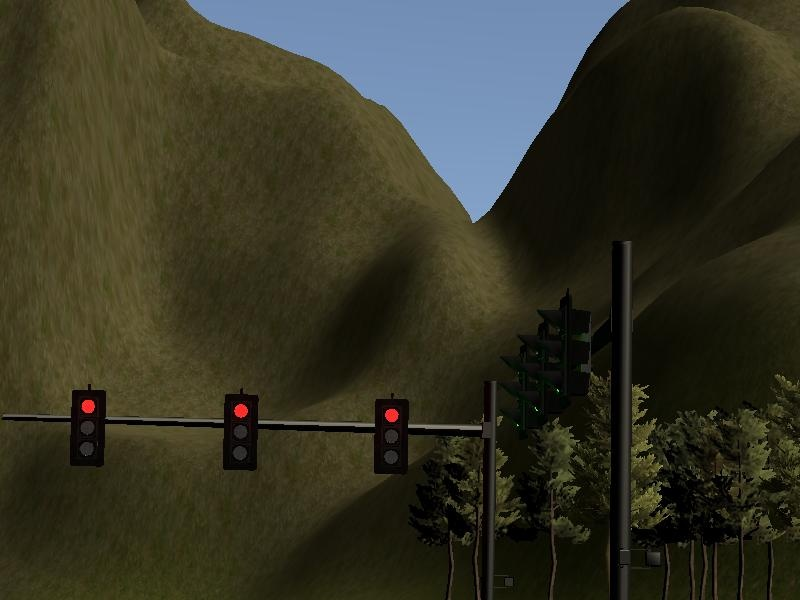RED: (373, 399, 408, 473), (222, 394, 257, 468), (70, 390, 105, 464)
